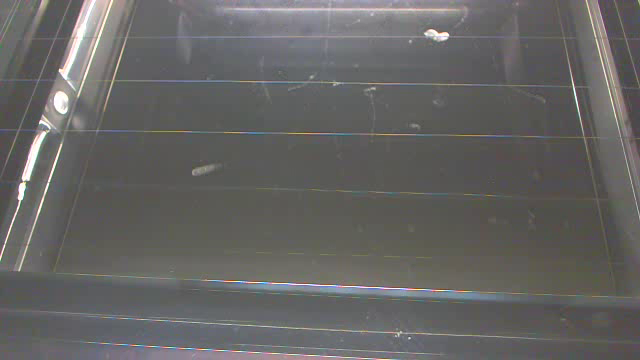alpha: (188, 159, 226, 180), (423, 25, 453, 47)
